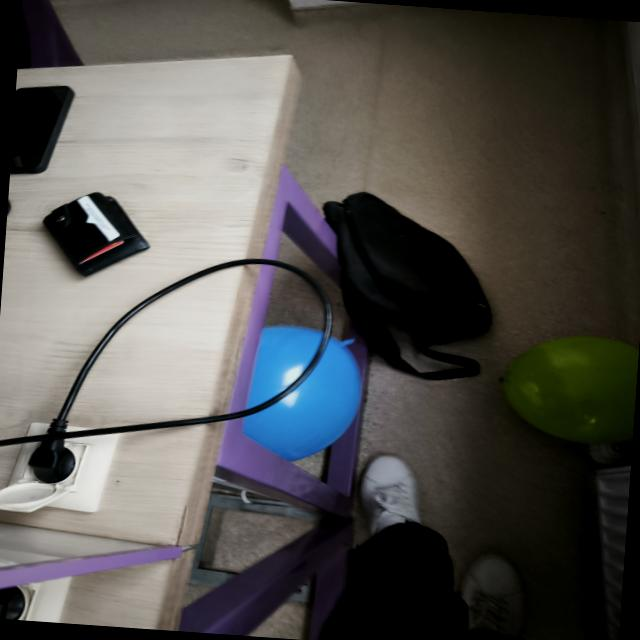balloon: (502, 336, 639, 444), (243, 337, 360, 460), (248, 325, 322, 408)
